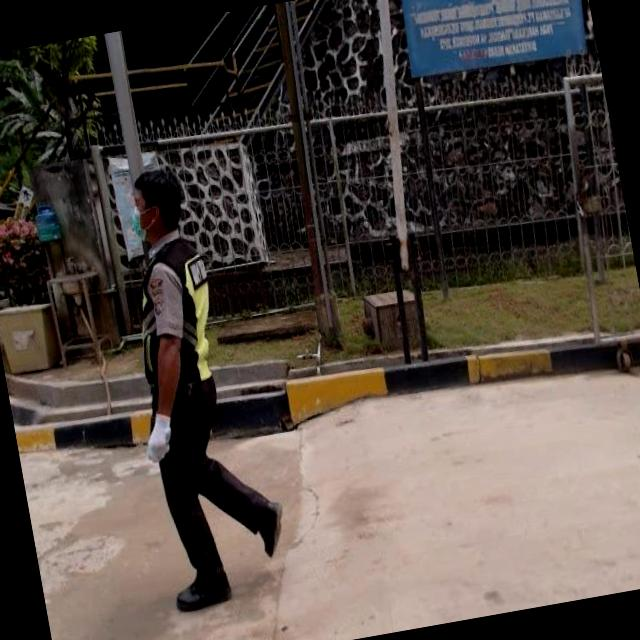boots: (170, 562, 237, 618), (248, 490, 292, 562)
gloves: (124, 395, 194, 468)
no-helmet: (106, 148, 196, 254)
vest: (120, 232, 225, 399)
